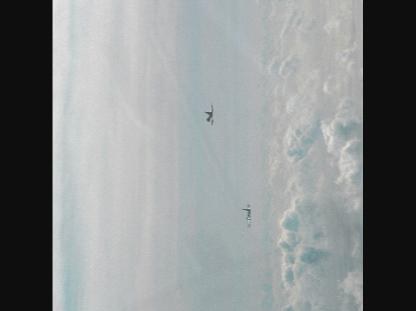E2: (204, 102, 213, 125)
Su57: (242, 192, 251, 233)
